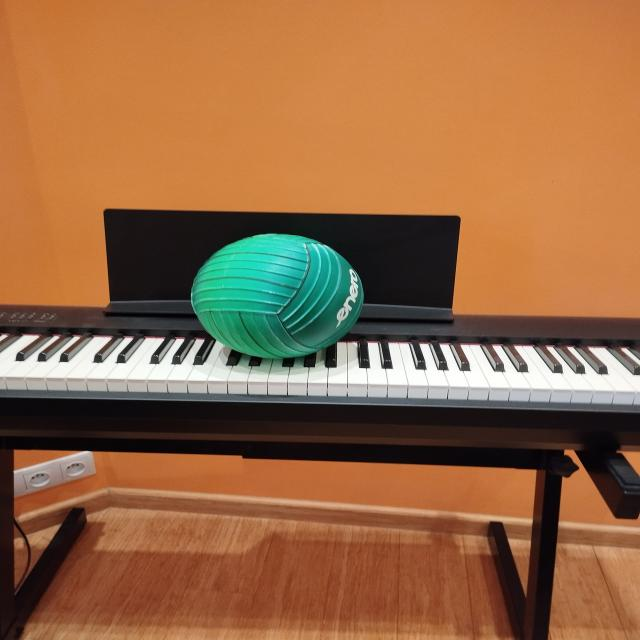zielona: (191, 233, 365, 358)
